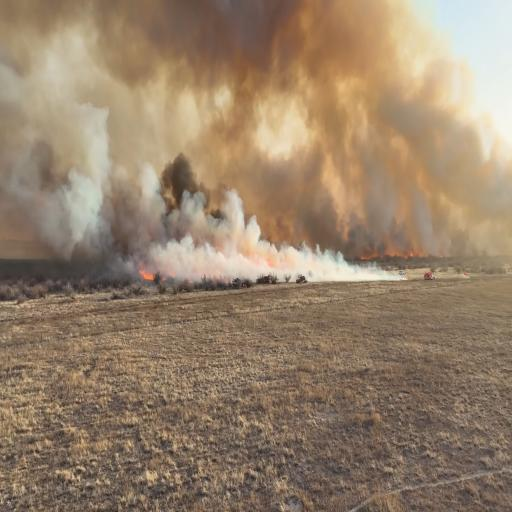smoke: (360, 63, 500, 221), (139, 0, 269, 123), (76, 147, 172, 275), (184, 196, 257, 279)
